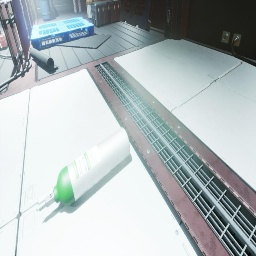0: (36, 127, 130, 212)
FirstAidBox ,: (0, 29, 8, 49)
